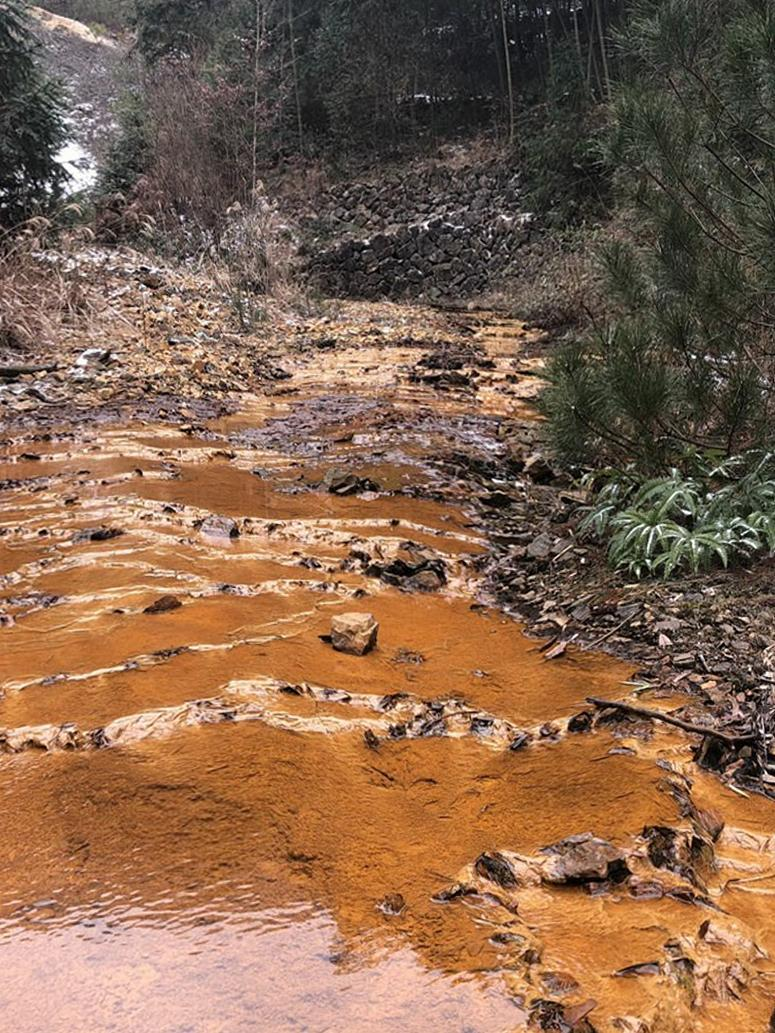Acid Pollution: (6, 418, 543, 1033)
